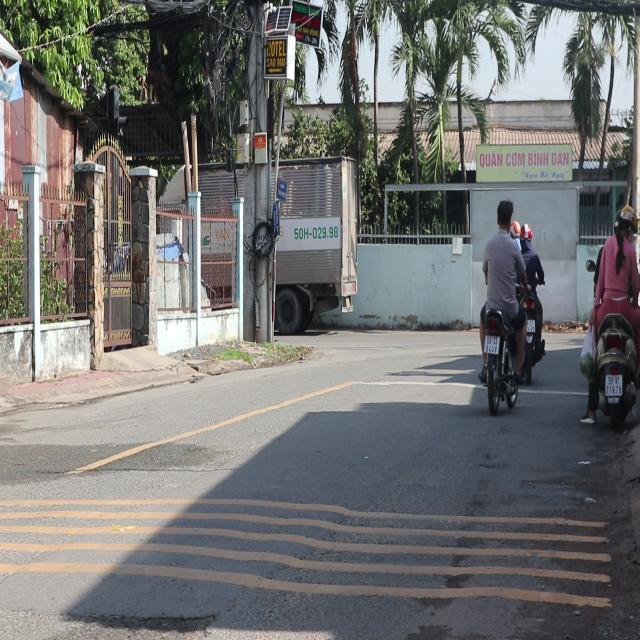helmet: (615, 203, 637, 238)
licenseplate: (578, 202, 639, 430), (474, 196, 525, 413)
motorcyclist: (494, 197, 513, 231)
nohelmet: (605, 373, 621, 394), (484, 334, 499, 353)
